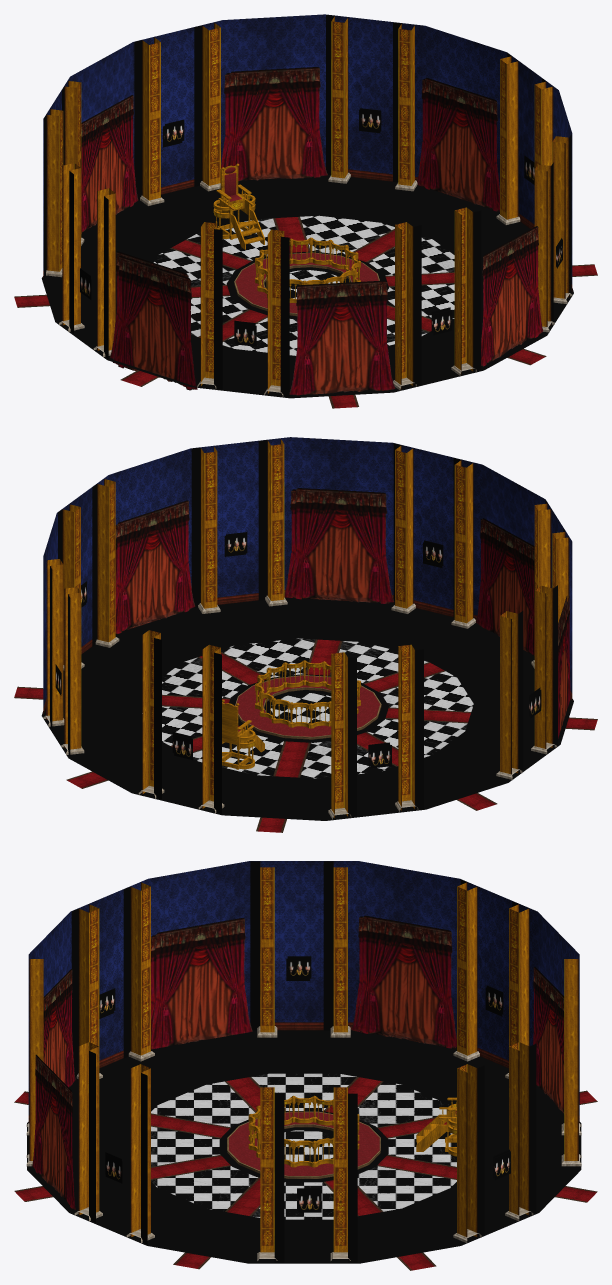
Rendered from DRFBX.fbx.
3 renders of one model, top to bottom at view 1: azimuth 30°, elevation 25°; view 2: azimuth 150°, elevation 25°; view 3: azimuth 270°, elevation 25°, orthographic. The views are drawn at different scales.
Parts seen in each view (by area): view 1: Trial Grounds (Chapter 1); view 2: Trial Grounds (Chapter 1); view 3: Trial Grounds (Chapter 1).
Boxes of the visible parts, bbox=[...] form: Trial Grounds (Chapter 1): bbox=[14, 14, 597, 408]; Trial Grounds (Chapter 1): bbox=[14, 437, 597, 832]; Trial Grounds (Chapter 1): bbox=[14, 861, 597, 1270].
Size of the model in its own units: 1402 by 461 by 1393.
